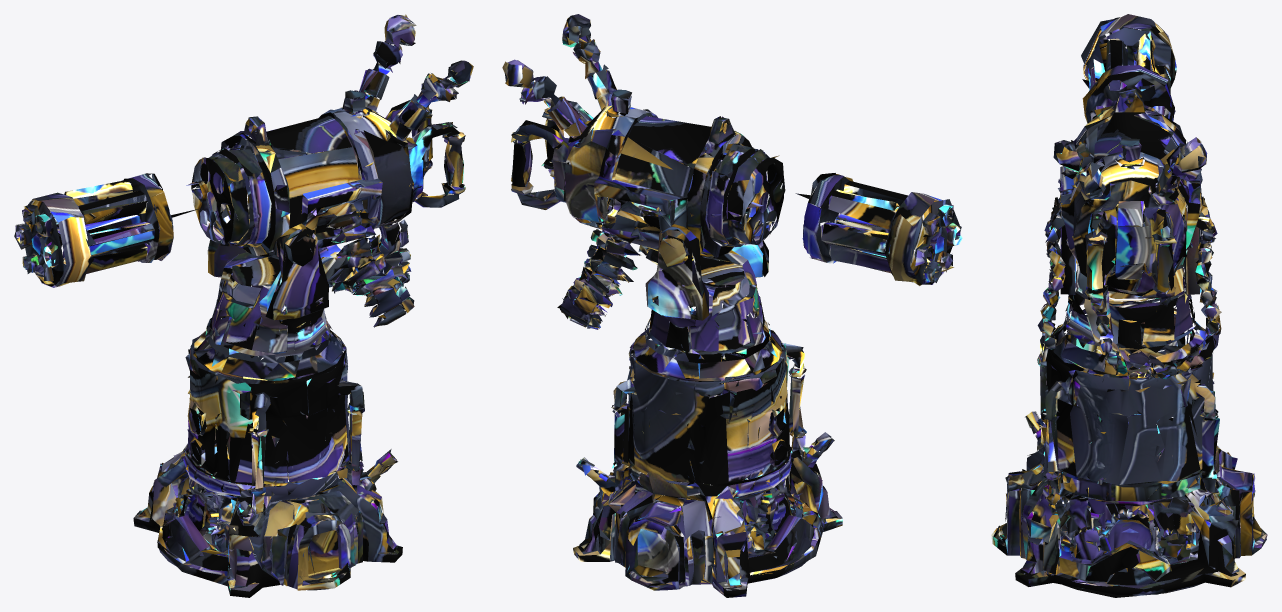
File: tower_gatling_3d_LOD1.fbx
3 renders of one model, left to right at view 1: azimuth 30°, elevation 25°; view 2: azimuth 150°, elevation 25°; view 3: azimuth 270°, elevation 25°, orthographic. The views are drawn at different scales.
Visible parts, largest first — view 1: Head, Base, Barrel; view 2: Base, Head, Barrel; view 3: Base, Head, Barrel.
Part boxes in pixels (left/top/right/bottom): Head: left=186, top=14, right=473, bottom=360; Base: left=133, top=312, right=402, bottom=597; Barrel: left=14, top=173, right=199, bottom=287; Base: left=573, top=310, right=842, bottom=597; Head: left=502, top=14, right=785, bottom=359; Barrel: left=795, top=173, right=962, bottom=285; Base: left=991, top=301, right=1267, bottom=597; Head: left=1037, top=88, right=1221, bottom=379; Barrel: left=1081, top=14, right=1176, bottom=125.
Bounding box in the file's own units: 119 × 125 × 64.44.
